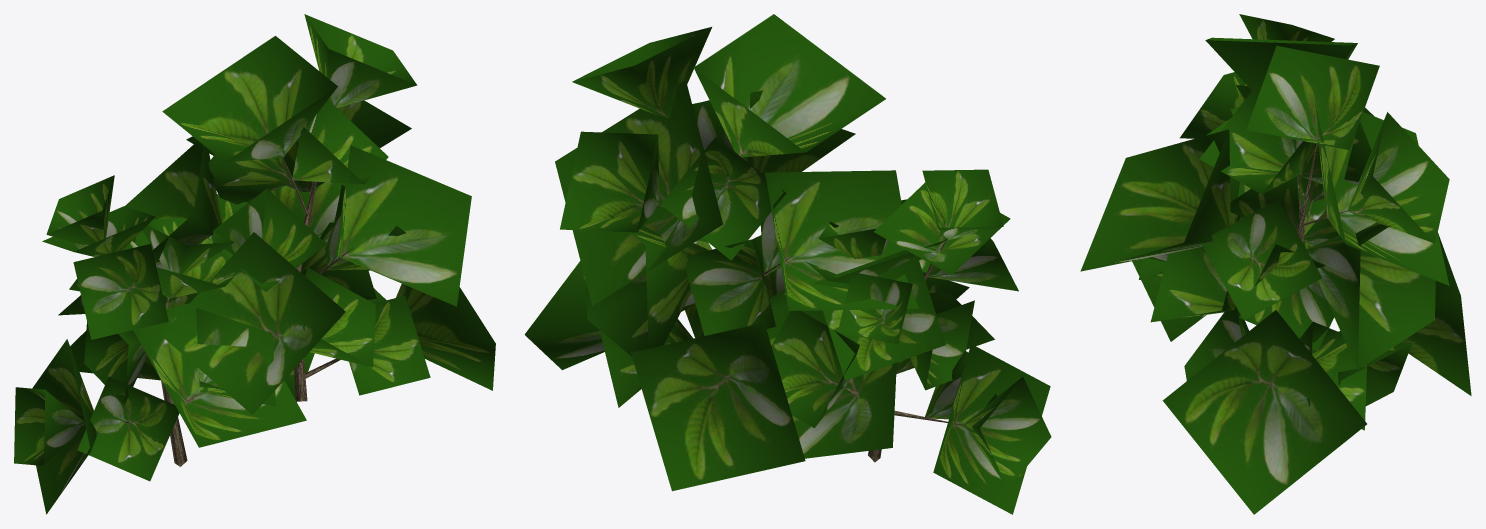
Rendered from leaf_palmbush_a1_l1.fbx.
3 views of the same model, side by side, from view 1: azimuth 30°, elevation 25°; view 2: azimuth 150°, elevation 25°; view 3: azimuth 270°, elevation 25° (orthographic). The views are drawn at different scales.
Visible parts, largest first — view 1: mesh_node; view 2: mesh_node; view 3: mesh_node.
Boxes of the visible parts, bbox=[...] form: mesh_node: bbox=[14, 14, 495, 514]; mesh_node: bbox=[524, 14, 1051, 514]; mesh_node: bbox=[1080, 14, 1471, 514].
Size of the model in its own units: 3.16 by 2.61 by 2.23.
2 materials, 2 textured.
